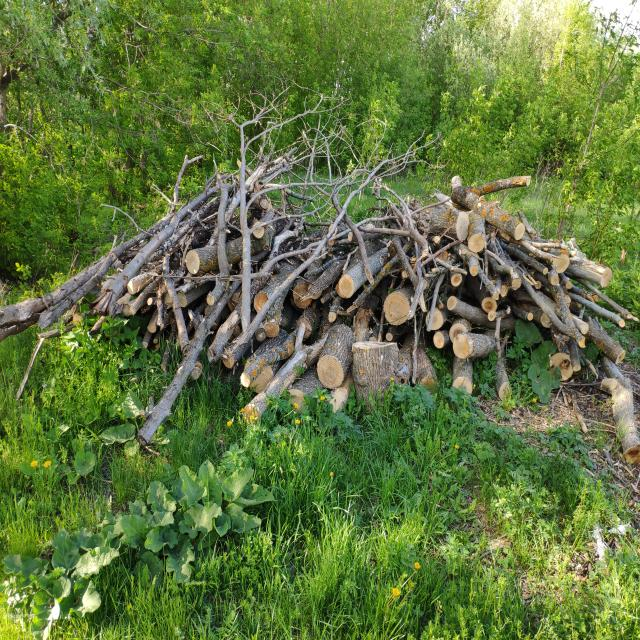restos de madeira: (252, 214, 368, 306), (119, 174, 227, 272), (247, 217, 364, 301), (128, 271, 216, 366), (63, 302, 164, 383), (243, 378, 349, 448), (239, 96, 329, 177), (433, 170, 525, 243), (38, 250, 125, 324), (139, 344, 204, 441), (320, 139, 429, 191), (1, 290, 68, 350), (599, 361, 639, 461), (385, 200, 434, 278), (352, 341, 403, 414), (238, 330, 296, 391), (566, 274, 636, 320), (470, 197, 527, 245), (314, 324, 355, 388), (581, 315, 626, 364), (375, 282, 422, 328), (16, 335, 49, 400), (445, 296, 503, 331), (4, 122, 54, 159), (402, 334, 436, 386), (513, 295, 559, 331), (564, 257, 614, 289), (515, 237, 568, 267), (100, 203, 148, 234), (451, 331, 498, 362), (466, 175, 532, 196), (424, 202, 458, 237), (451, 351, 474, 398), (493, 347, 511, 406), (567, 391, 589, 436), (458, 244, 481, 280), (431, 293, 455, 327), (565, 336, 583, 374), (245, 160, 268, 189), (579, 351, 598, 380), (489, 270, 506, 300), (446, 262, 464, 290), (432, 326, 452, 351), (448, 320, 468, 344), (571, 316, 590, 336), (508, 266, 522, 290), (523, 273, 541, 290), (263, 321, 280, 338), (221, 351, 236, 369), (258, 195, 272, 211), (561, 386, 571, 408), (548, 273, 560, 286)
terra: (0, 70, 9, 134)
